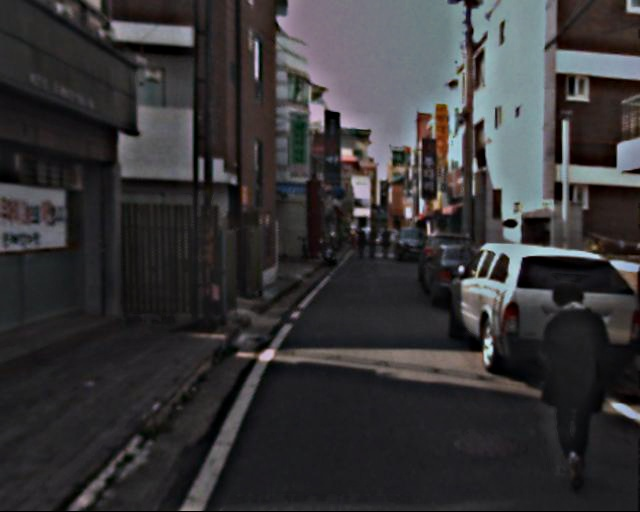person: (521, 280, 616, 490), (354, 224, 393, 259)
